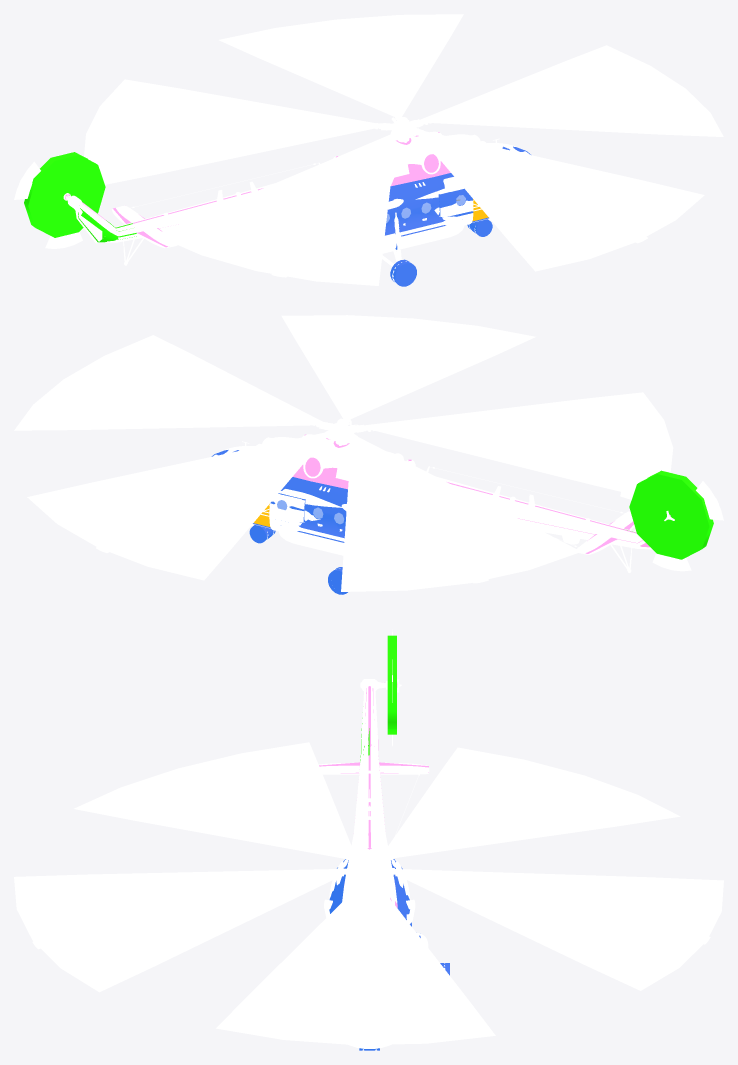
3 views of the same model, one above another, from view 1: azimuth 30°, elevation 25°; view 2: azimuth 150°, elevation 25°; view 3: azimuth 270°, elevation 25° (orthographic). The views are drawn at different scales.
Parts seen in each view (by area): view 1: Heli2_5, Heli2_7, Heli2, MI8_Engine_Tail_25, MI8_Colmesh, MI8_Colmesh_1; view 2: Heli2_5, Heli2_7, Heli2, MI8_Engine_Tail_25, MI8_Colmesh, MI8_Colmesh_1; view 3: Heli2_5, Heli2_7, Heli2, MI8_Engine_Tail_25, MI8_Colmesh, MI8_Colmesh_1.
Part boxes in pixels (left/top/right/bottom): Heli2_5: left=14, top=14, right=723, bottom=285; Heli2_7: left=98, top=23, right=667, bottom=277; Heli2: left=63, top=109, right=530, bottom=284; MI8_Engine_Tail_25: left=24, top=152, right=136, bottom=242; MI8_Colmesh: left=385, top=146, right=530, bottom=286; MI8_Colmesh_1: left=65, top=132, right=450, bottom=247; Heli2_5: left=14, top=315, right=723, bottom=591; Heli2_7: left=63, top=320, right=656, bottom=583; Heli2: left=213, top=411, right=674, bottom=592; MI8_Engine_Tail_25: left=627, top=470, right=713, bottom=559; MI8_Colmesh: left=211, top=450, right=347, bottom=594; MI8_Colmesh_1: left=292, top=434, right=670, bottom=553; Heli2_5: left=14, top=629, right=723, bottom=1044; Heli2_7: left=32, top=776, right=710, bottom=1047; Heli2: left=319, top=679, right=445, bottom=1050; MI8_Engine_Tail_25: left=360, top=635, right=396, bottom=760; MI8_Colmesh: left=329, top=859, right=449, bottom=1050; MI8_Colmesh_1: left=319, top=682, right=428, bottom=907.
Size of the model in its own units: 24.55 by 6.14 by 20.72.
